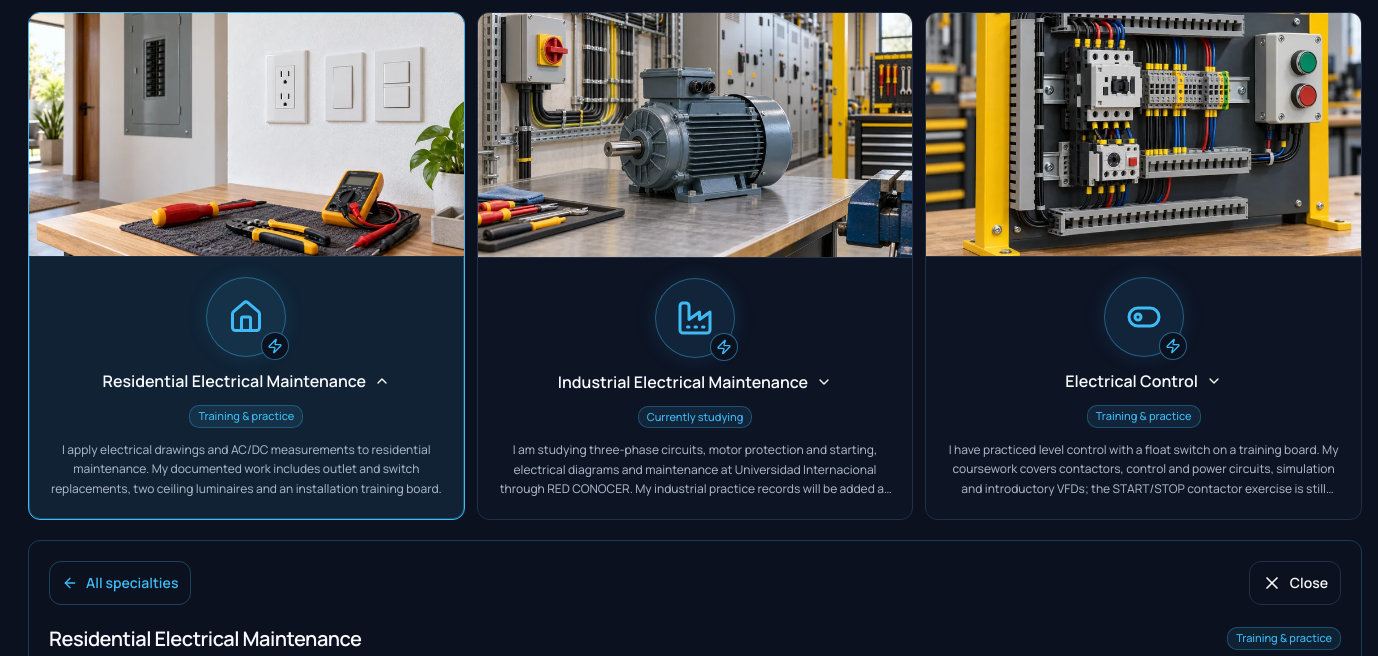
Test: entering a specialty › closes from either explicit control or the active card and returns focus to the card
Click the button "Close" at {"x": 1295, "y": 582}, box left=1249, top=560, right=1341, bottom=604
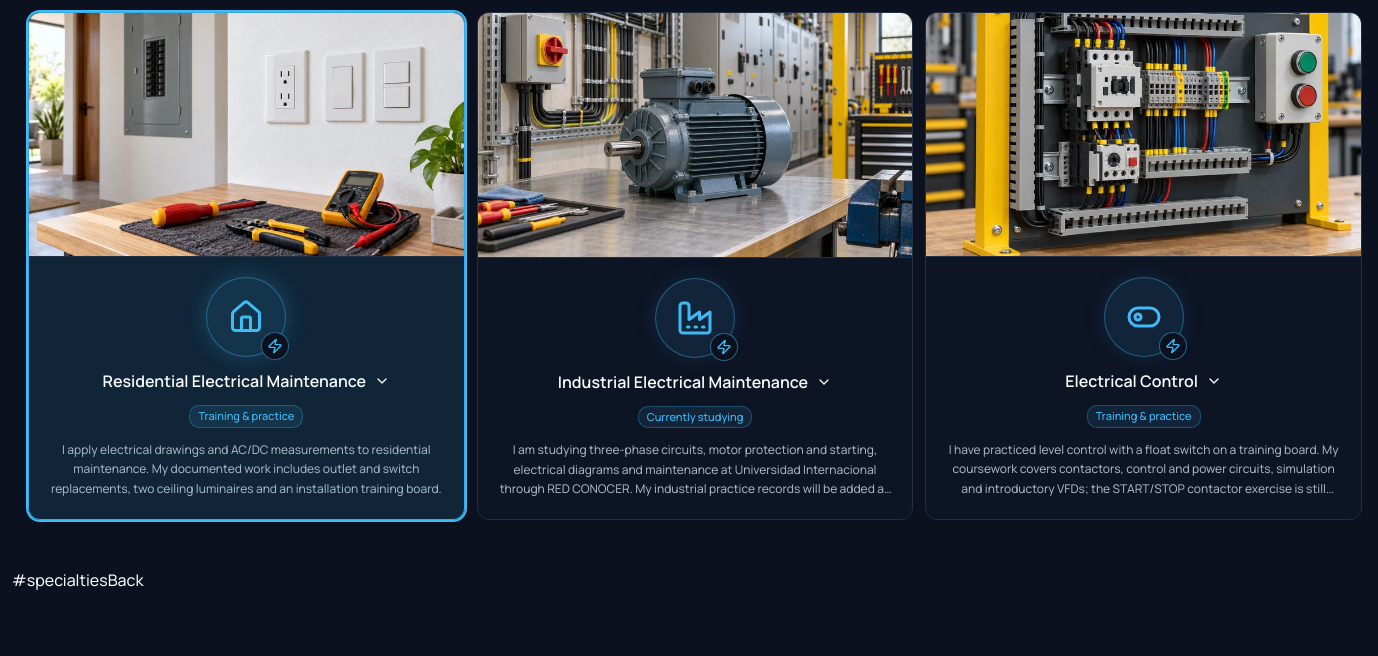
Expected: the button that starts with "Residential Electrical Maintenance" is collapsed
Expected: the text with test id "hash" reads "#specialties", left=12, top=568, right=108, bottom=590
Click the button that starts with "Residential Electrical Maintenance" at {"x": 246, "y": 266}, box left=28, top=12, right=465, bottom=520
(page scrolled)
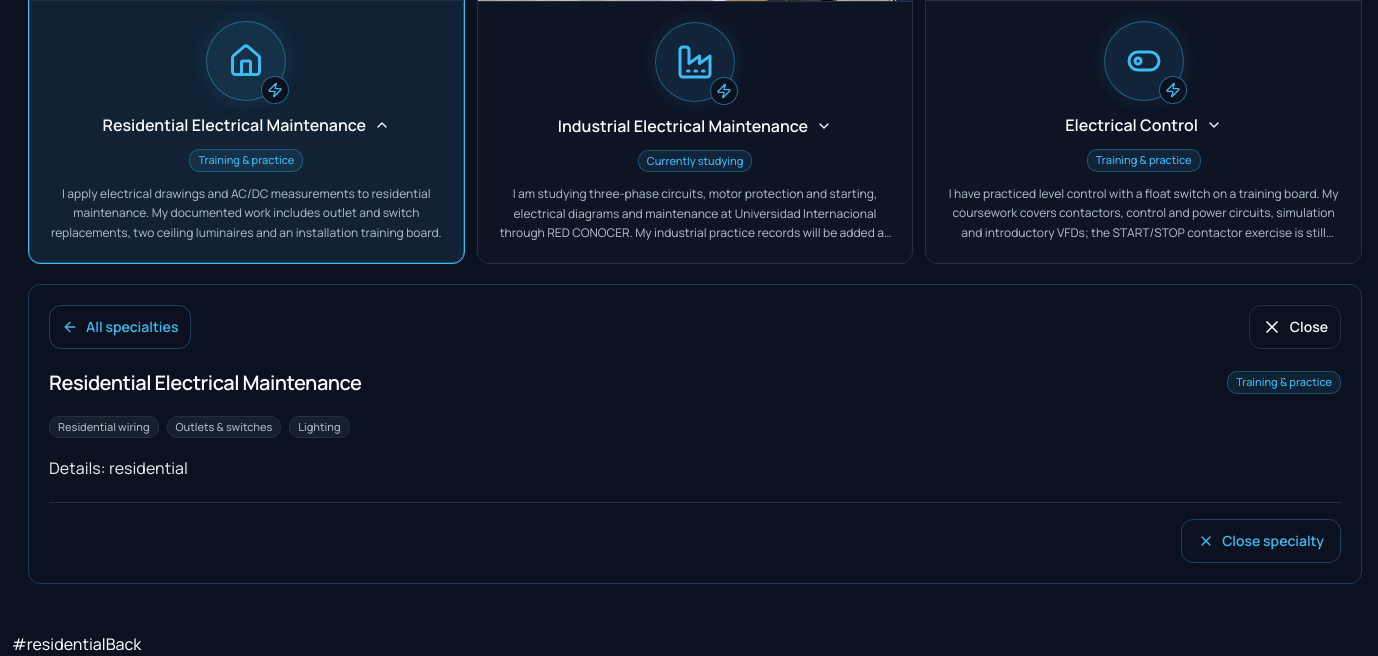
Click the button "Close specialty" at {"x": 1261, "y": 541}, box left=1181, top=519, right=1341, bottom=563
(page scrolled)
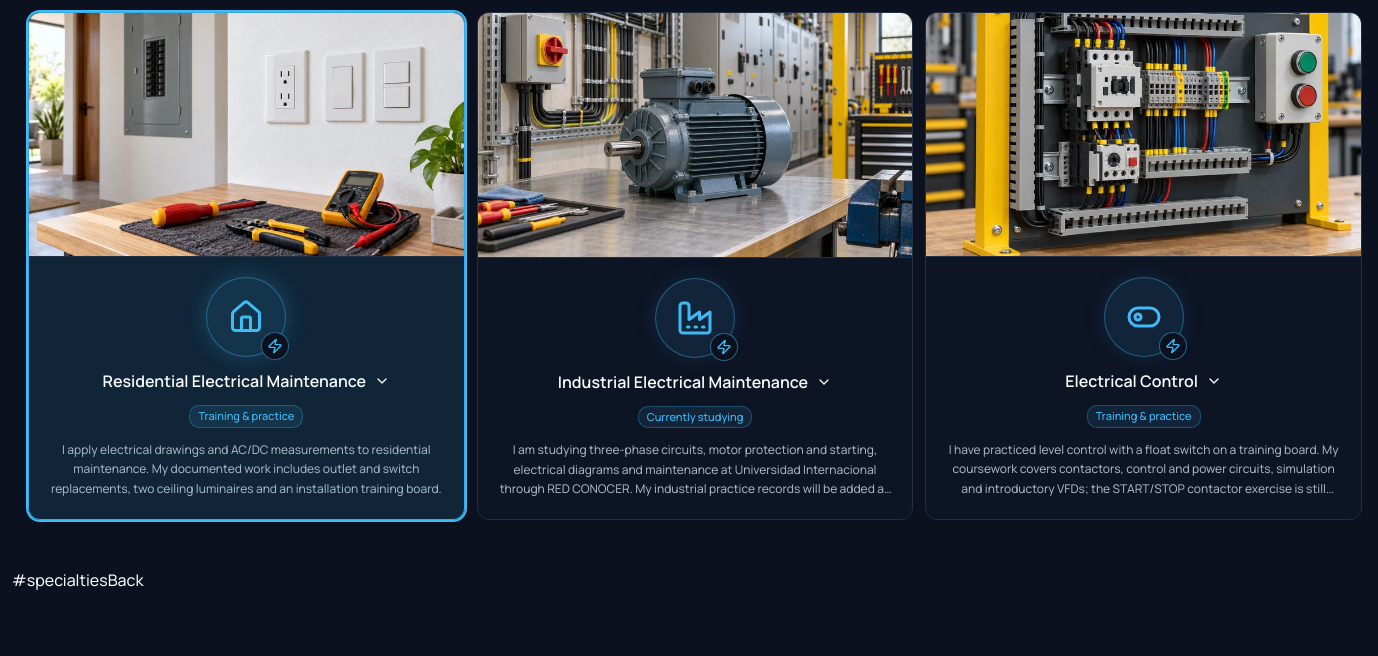
Expected: the button that starts with "Residential Electrical Maintenance" is collapsed
Expected: the text with test id "hash" reads "#specialties", left=12, top=568, right=108, bottom=590
Click the button that starts with "Residential Electrical Maintenance" at {"x": 246, "y": 266}, box left=28, top=12, right=465, bottom=520
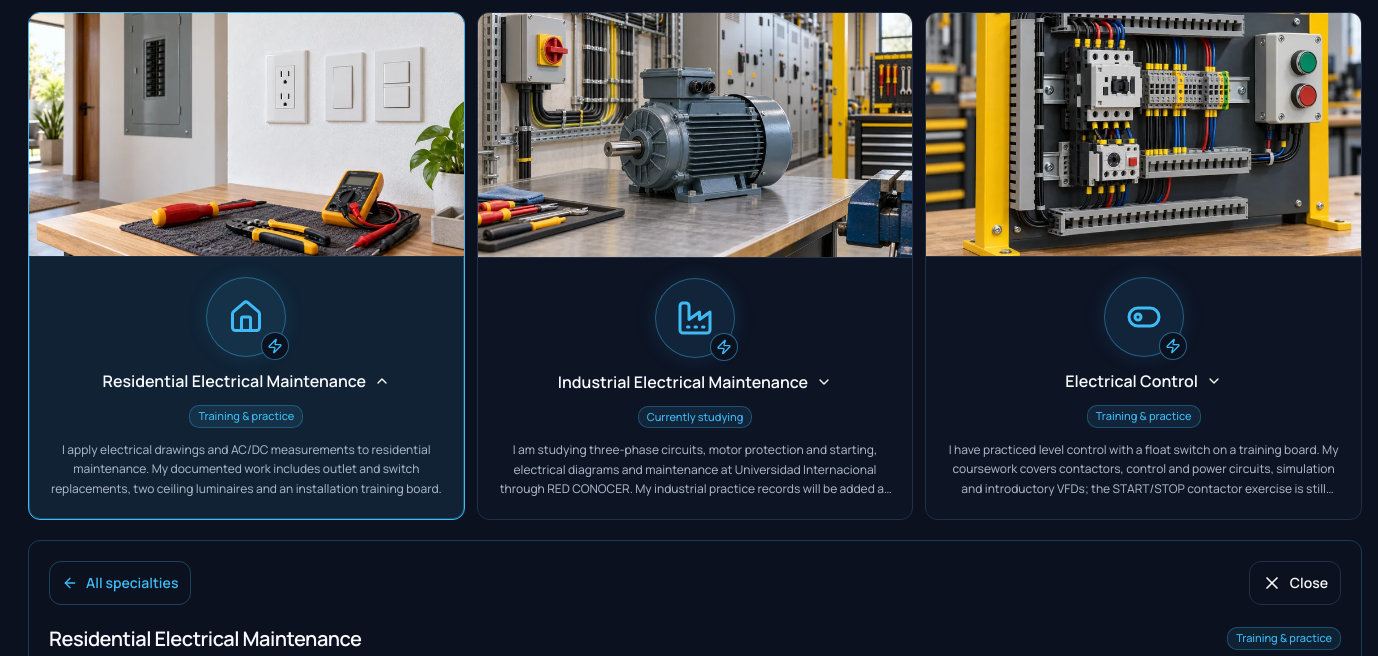
Click the button that starts with "Residential Electrical Maintenance" at {"x": 246, "y": 266}, box left=28, top=12, right=465, bottom=520
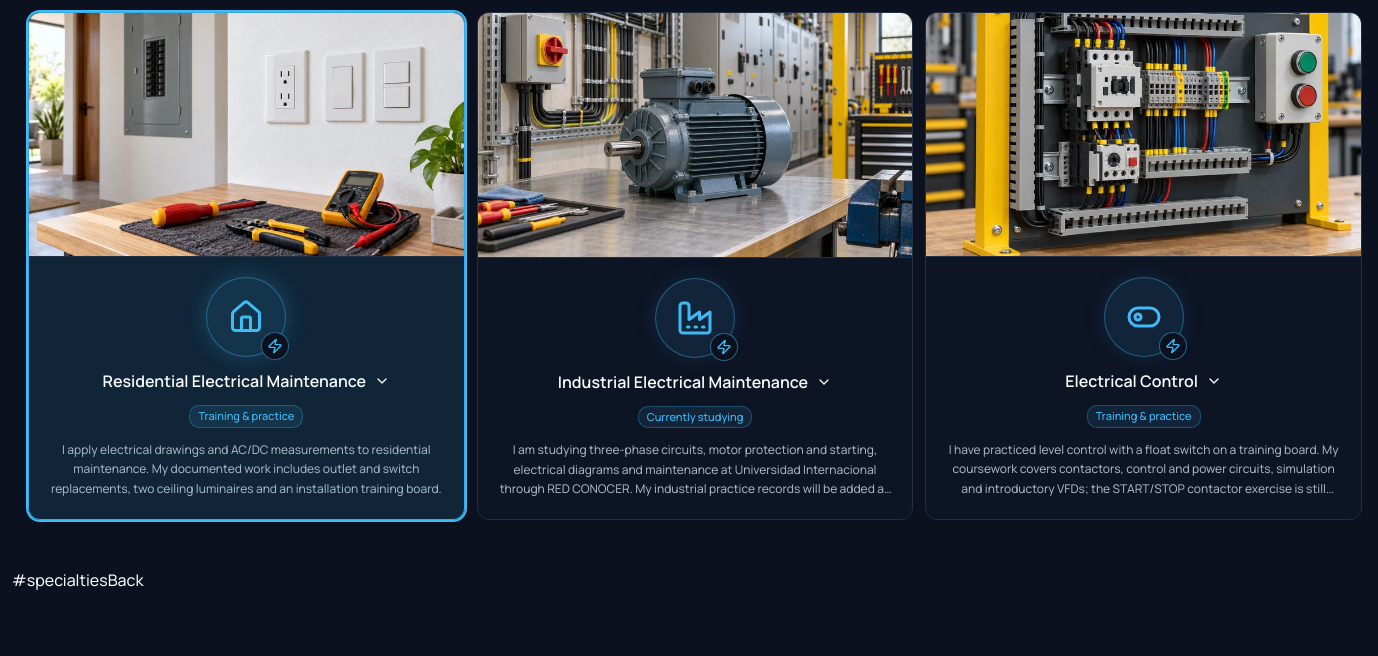
Expected: the button that starts with "Residential Electrical Maintenance" is collapsed, left=28, top=12, right=465, bottom=520
Expected: the text with test id "hash" reads "#specialties", left=12, top=568, right=108, bottom=590
